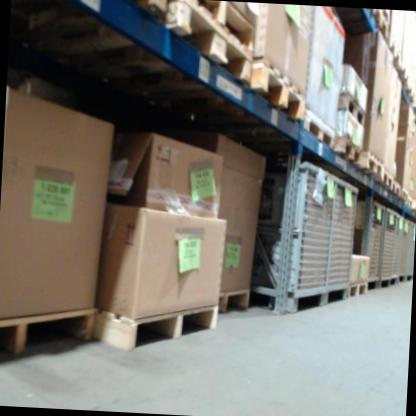pallet: (159, 0, 260, 81), (94, 295, 219, 359), (0, 300, 96, 377), (165, 0, 265, 61), (250, 54, 310, 124), (302, 107, 337, 148), (216, 285, 251, 323), (336, 89, 367, 130), (333, 135, 362, 166), (358, 150, 386, 181), (343, 279, 370, 301), (381, 165, 396, 193), (391, 177, 402, 199)
stillage: (252, 161, 331, 314), (320, 173, 359, 303), (344, 198, 385, 297), (382, 206, 397, 295), (392, 212, 404, 287), (399, 219, 411, 283), (406, 222, 415, 286)
